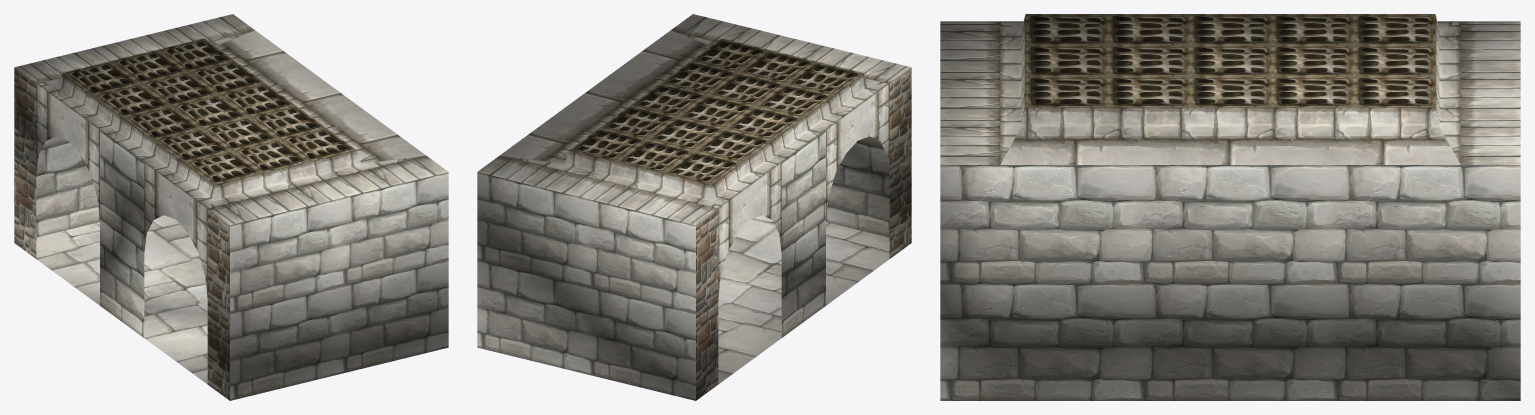
Rendered from stormwind_054.fbx.
3 renders of one model, left to right at view 1: azimuth 30°, elevation 25°; view 2: azimuth 150°, elevation 25°; view 3: azimuth 270°, elevation 25°, orthographic. The views are drawn at different scales.
Parts seen in each view (by area): view 1: stormwind_054_39, stormwind_054_40, stormwind_054_81, stormwind_054_52, stormwind_054_38; view 2: stormwind_054_39, stormwind_054_40, stormwind_054_81, stormwind_054_52, stormwind_054_38; view 3: stormwind_054_39, stormwind_054_40, stormwind_054_81.
Boxes of the visible parts, box(x1,y1,x2,y2) form: stormwind_054_39: box(36, 130, 448, 400); stormwind_054_40: box(14, 14, 448, 297); stormwind_054_81: box(62, 38, 355, 184); stormwind_054_52: box(36, 215, 207, 384); stormwind_054_38: box(14, 68, 229, 400); stormwind_054_39: box(477, 130, 889, 400); stormwind_054_40: box(477, 14, 911, 297); stormwind_054_81: box(570, 38, 863, 184); stormwind_054_52: box(718, 215, 889, 384); stormwind_054_38: box(696, 68, 911, 400); stormwind_054_39: box(940, 165, 1520, 400); stormwind_054_40: box(940, 14, 1520, 164); stormwind_054_81: box(1025, 14, 1435, 107).
Size of the model in its own units: 8.02 by 6.62 by 13.7.
